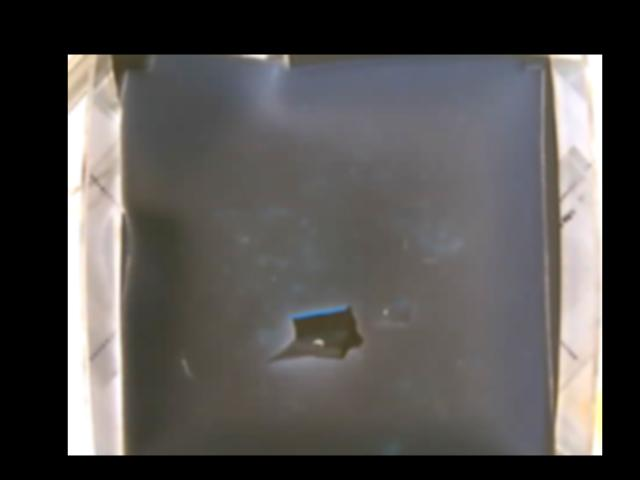China: (265, 308, 369, 366)
